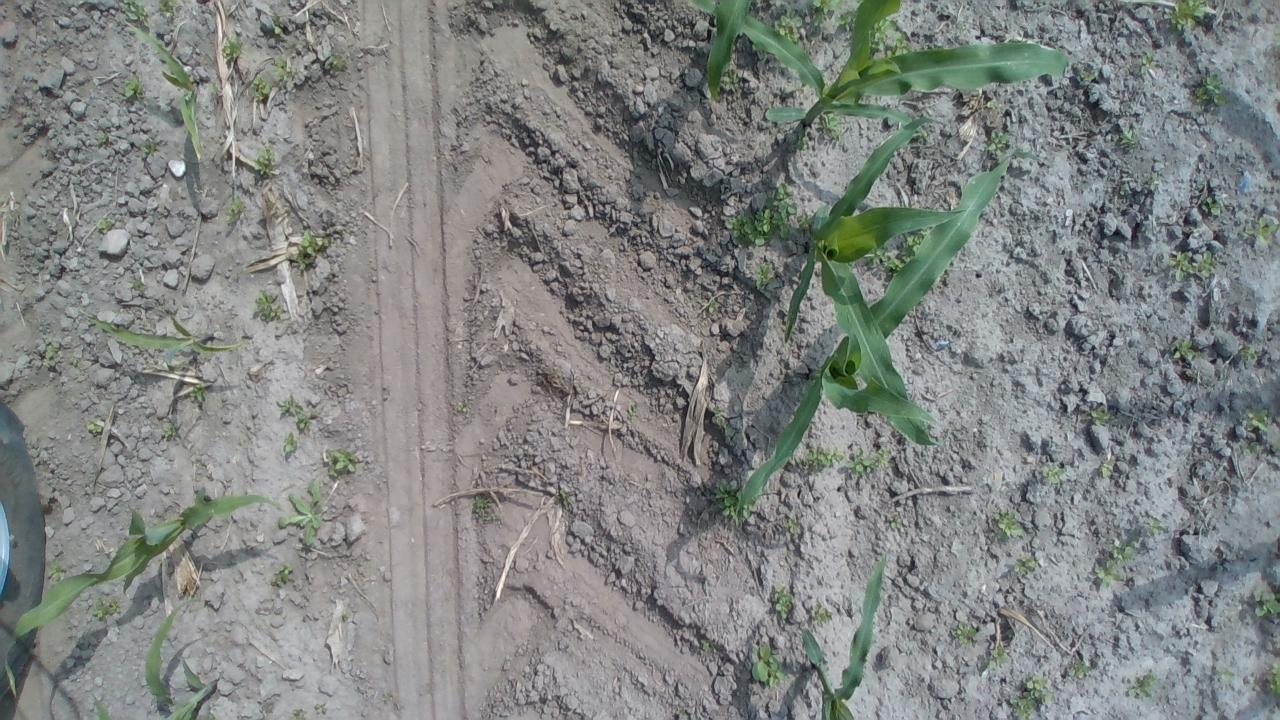Maize: (732, 160, 1021, 518), (784, 115, 966, 461), (3, 486, 285, 698), (688, 1, 1074, 138), (93, 594, 224, 720), (798, 549, 892, 719), (124, 12, 207, 163), (80, 300, 240, 374), (700, 0, 750, 102)
Weeds: (723, 182, 798, 248), (279, 480, 325, 546), (1093, 540, 1137, 592), (710, 480, 759, 525), (1010, 674, 1056, 719), (890, 226, 931, 276), (749, 641, 790, 689), (871, 17, 916, 59), (1167, 248, 1218, 284), (292, 229, 336, 270), (794, 443, 845, 476), (848, 446, 896, 479), (276, 394, 316, 432), (1164, 0, 1210, 31), (250, 288, 287, 322), (1192, 70, 1226, 106), (324, 448, 362, 477), (993, 508, 1025, 541), (773, 8, 803, 43), (770, 582, 797, 620), (272, 56, 304, 88), (1245, 214, 1276, 245), (470, 494, 500, 526), (1250, 586, 1278, 620), (806, 0, 840, 27), (220, 29, 250, 59), (1125, 674, 1159, 700), (91, 596, 122, 624), (820, 111, 844, 143), (1244, 407, 1271, 435), (718, 63, 742, 94), (122, 0, 150, 26), (252, 147, 276, 177), (223, 193, 245, 224), (752, 262, 778, 288), (952, 621, 977, 648), (250, 74, 272, 104), (988, 128, 1008, 160), (988, 642, 1009, 672), (1170, 338, 1198, 360), (1118, 122, 1140, 150), (711, 406, 732, 435), (122, 77, 146, 101), (832, 9, 858, 30), (272, 563, 294, 587), (1040, 463, 1066, 483), (268, 12, 286, 40), (142, 136, 163, 160), (1068, 659, 1093, 679), (866, 246, 888, 268), (1013, 555, 1037, 575), (1142, 516, 1166, 536), (791, 127, 810, 152), (1140, 51, 1158, 77), (156, 0, 182, 18), (326, 52, 350, 71), (796, 211, 816, 233), (184, 382, 206, 402), (282, 432, 300, 456), (1088, 406, 1112, 424), (1264, 663, 1276, 698), (47, 562, 67, 582), (1240, 343, 1260, 363), (810, 606, 832, 624), (1200, 198, 1222, 216), (43, 344, 60, 367), (702, 298, 722, 317), (161, 420, 179, 440), (788, 80, 810, 96), (96, 215, 115, 233), (699, 638, 717, 656), (784, 516, 802, 534), (84, 419, 102, 435), (886, 515, 904, 531), (1098, 459, 1112, 478), (286, 708, 310, 719), (626, 402, 638, 423), (204, 81, 220, 96), (1243, 442, 1260, 456), (1218, 668, 1234, 682), (1147, 174, 1161, 190), (558, 488, 572, 504), (92, 132, 110, 144), (130, 278, 145, 292), (455, 400, 470, 414), (955, 23, 968, 39), (1080, 69, 1093, 82), (70, 356, 82, 370), (986, 100, 1002, 110), (314, 702, 327, 714), (205, 712, 218, 719)
